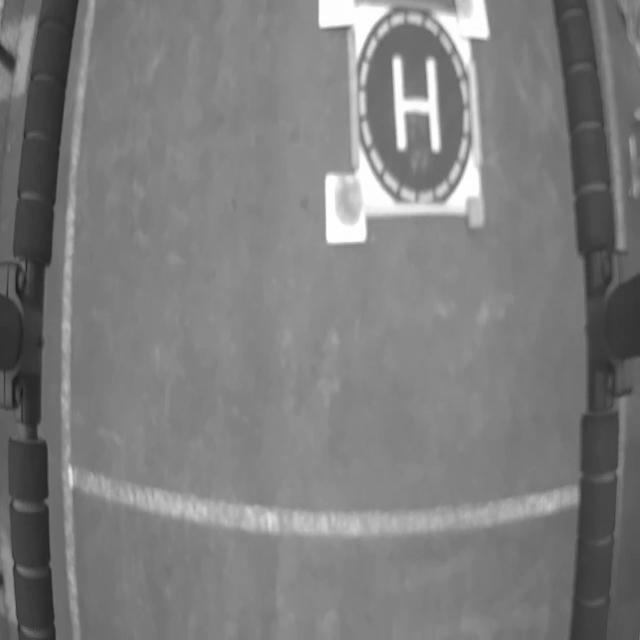Helipad: (392, 52, 442, 153)
